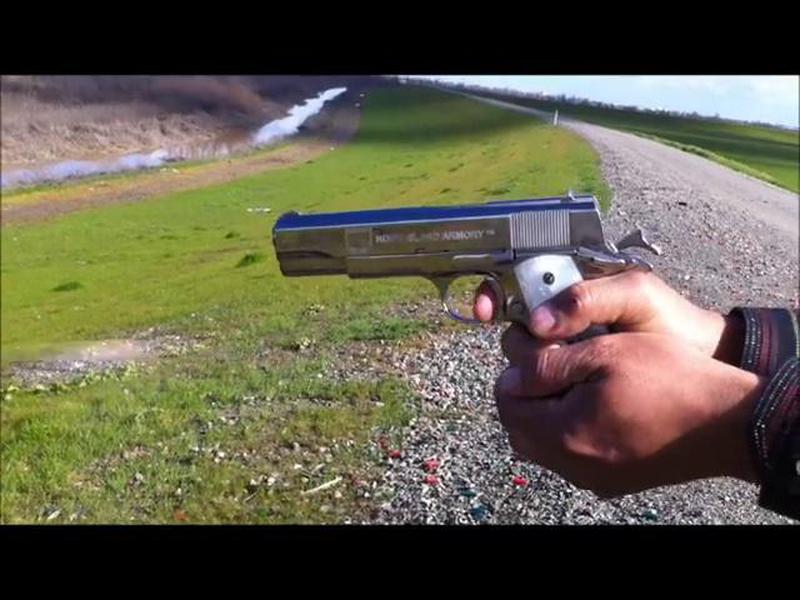Pistola: (273, 167, 630, 410)
